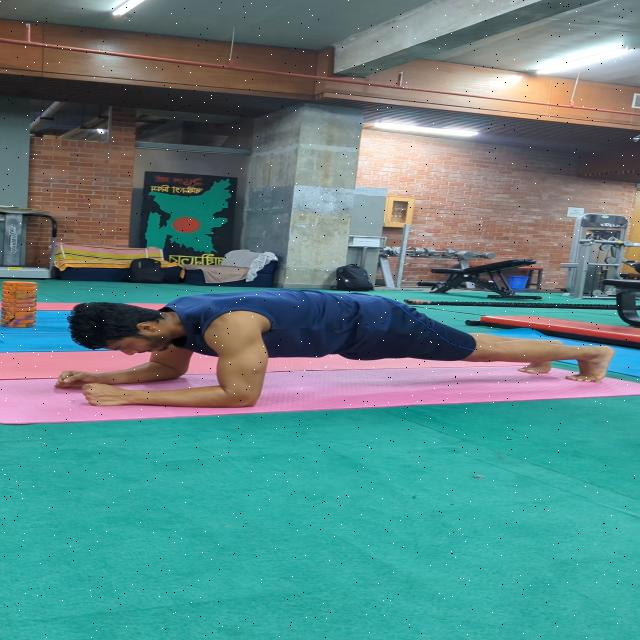Normal_Plunk: (38, 284, 594, 426)
